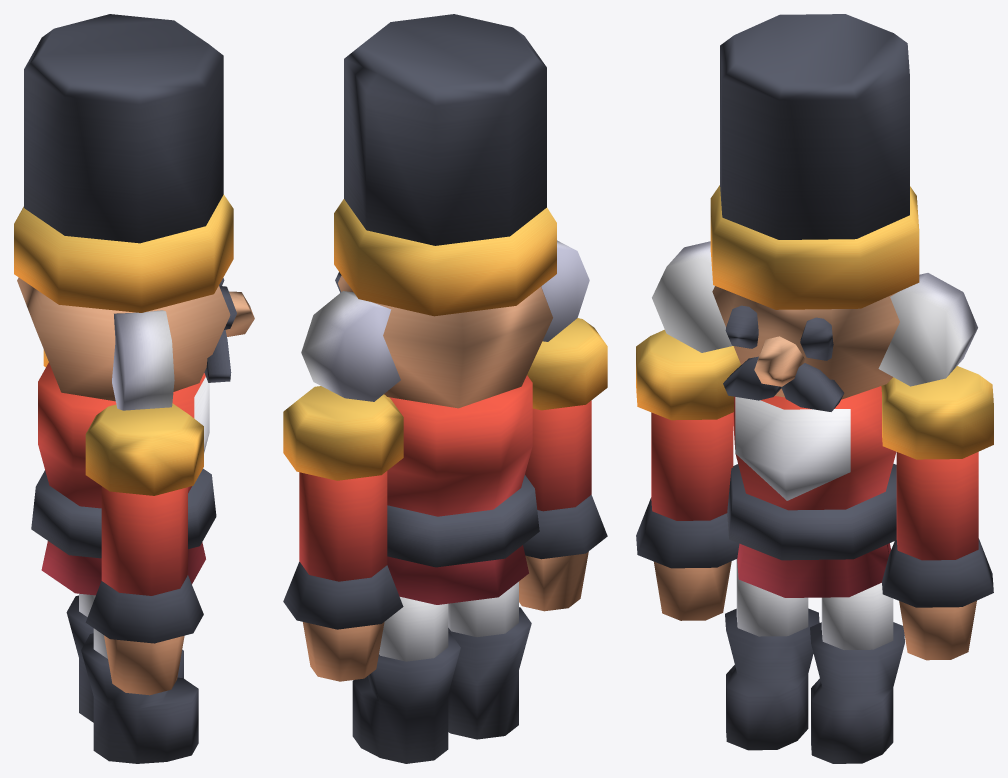
Rendered from nutcracker.glb.
3 views of the same model, side by side, from view 1: azimuth 30°, elevation 25°; view 2: azimuth 150°, elevation 25°; view 3: azimuth 270°, elevation 25° (orthographic).
Visible parts, largest first — view 1: nutcracker; view 2: nutcracker; view 3: nutcracker.
Boxes of the visible parts, <box> form: nutcracker: <box>14,14,254,763</box>; nutcracker: <box>283,14,607,763</box>; nutcracker: <box>636,14,993,763</box>.
Bounding box in the file's own units: 0.3452 × 1.08 × 0.5127.
Materials: 1 (1 with a texture image).
